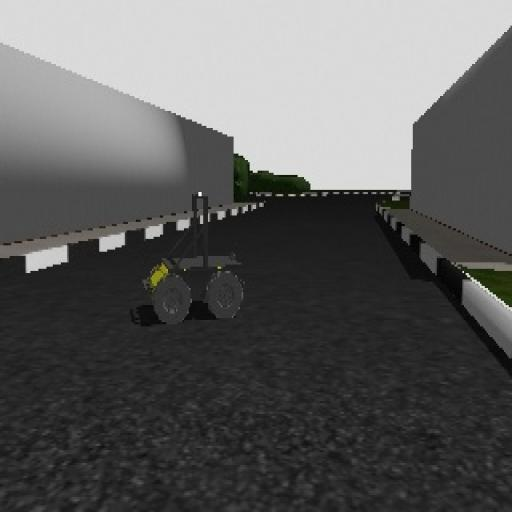huskya200: (131, 189, 255, 335)
